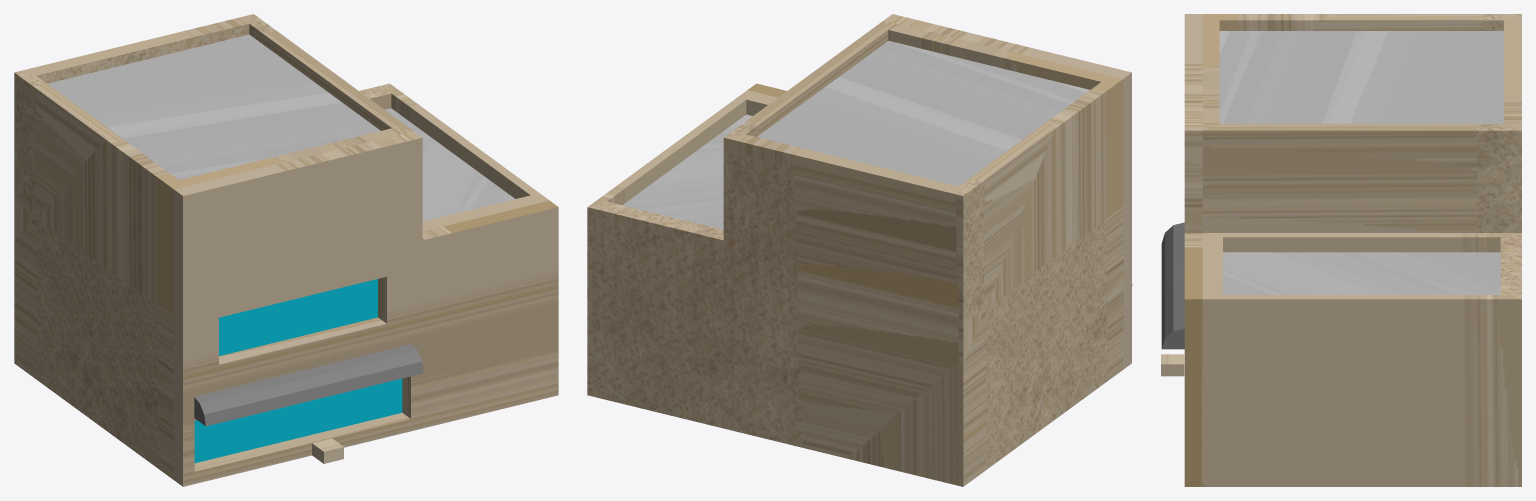
File: RxStore.fbx
3 views of the same model, side by side, from view 1: azimuth 30°, elevation 25°; view 2: azimuth 150°, elevation 25°; view 3: azimuth 270°, elevation 25° (orthographic).
Visible parts, largest first — view 1: pCube22; view 2: pCube22; view 3: pCube22.
Part boxes in pixels (x1,y1,x2,y2): pCube22: (14, 14, 558, 486); pCube22: (587, 14, 1132, 486); pCube22: (1161, 14, 1521, 486).
Size of the model in its own units: 18.54 by 13.72 by 15.46.
